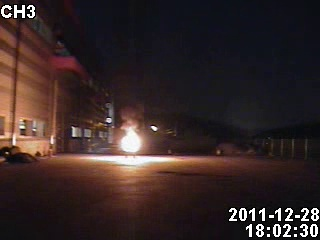fire: (119, 110, 147, 154)
